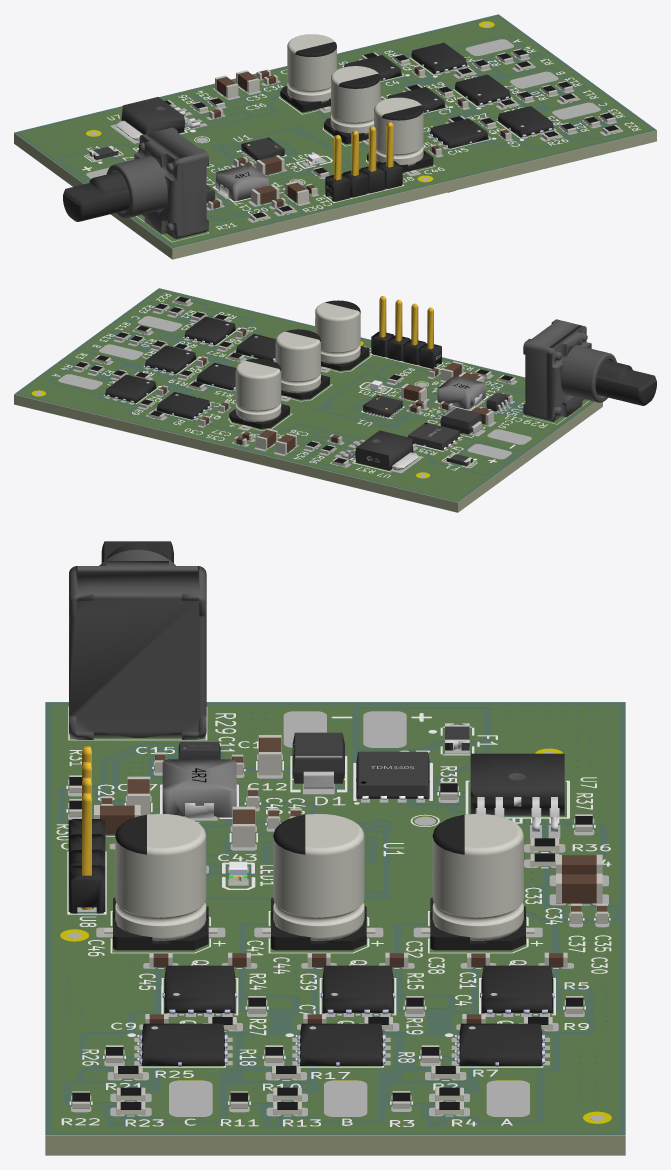
Rendered from BLDCdriver_RevC.glb.
The picture shows the model from 3 angles, top to bottom: view 1: azimuth 30°, elevation 25°; view 2: azimuth 150°, elevation 25°; view 3: azimuth 270°, elevation 25°; orthographic projection. The views are drawn at different scales.
Visible parts, largest first — view 1: =>[0:1:1:51], =>[0:1:1:46], =>[0:1:1:53], =>[0:1:1:23] (×3), =>[0:1:1:11], =>[0:1:1:19] (×6), =>[0:1:1:47], =>[0:1:1:49], =>[0:1:1:3], =>[0:1:1:7], =>[0:1:1:17] (×5), =>[0:1:1:25] (+2 smaller); view 2: =>[0:1:1:51], =>[0:1:1:46], =>[0:1:1:53], =>[0:1:1:23] (×3), =>[0:1:1:11], =>[0:1:1:19] (×6), =>[0:1:1:47], =>[0:1:1:49], =>[0:1:1:3], =>[0:1:1:7], =>[0:1:1:25], =>[0:1:1:17] (×3) (+5 smaller); view 3: =>[0:1:1:51], =>[0:1:1:46], =>[0:1:1:23] (×3), =>[0:1:1:53], =>[0:1:1:11], =>[0:1:1:19] (×6), =>[0:1:1:47], =>[0:1:1:49], =>[0:1:1:7], =>[0:1:1:17] (×5), =>[0:1:1:25], =>[0:1:1:3] (+2 smaller).
Part boxes in pixels (x1,y1,x2,y2): =>[0:1:1:51]: (14, 14, 656, 248); =>[0:1:1:46]: (20, 17, 650, 245); =>[0:1:1:53]: (14, 15, 656, 259); =>[0:1:1:23] (×3): (280, 34, 433, 173); =>[0:1:1:11]: (63, 127, 208, 239); =>[0:1:1:19] (×6): (344, 42, 553, 148); =>[0:1:1:47]: (86, 23, 623, 222); =>[0:1:1:49]: (82, 39, 641, 242); =>[0:1:1:3]: (325, 122, 402, 201); =>[0:1:1:7]: (116, 97, 200, 140); =>[0:1:1:17] (×5): (215, 70, 308, 205); =>[0:1:1:25]: (216, 164, 268, 200); =>[0:1:1:51]: (14, 288, 594, 502); =>[0:1:1:46]: (19, 291, 591, 500); =>[0:1:1:53]: (14, 289, 602, 512); =>[0:1:1:23] (×3): (229, 300, 369, 428); =>[0:1:1:11]: (523, 319, 656, 421); =>[0:1:1:19] (×6): (105, 316, 275, 419); =>[0:1:1:47]: (35, 300, 531, 476); =>[0:1:1:49]: (52, 293, 589, 478); =>[0:1:1:3]: (371, 296, 441, 368); =>[0:1:1:7]: (341, 430, 417, 470); =>[0:1:1:25]: (437, 376, 485, 409); =>[0:1:1:17] (×3): (256, 383, 426, 454); =>[0:1:1:51]: (45, 702, 625, 1135); =>[0:1:1:46]: (52, 705, 618, 1132); =>[0:1:1:23] (×3): (104, 813, 534, 950); =>[0:1:1:53]: (45, 703, 625, 1155); =>[0:1:1:11]: (69, 541, 206, 739); =>[0:1:1:19] (×6): (139, 965, 554, 1066); =>[0:1:1:47]: (67, 711, 609, 1120); =>[0:1:1:49]: (56, 706, 611, 1126); =>[0:1:1:7]: (470, 753, 564, 831); =>[0:1:1:17] (×5): (94, 735, 602, 903); =>[0:1:1:25]: (162, 759, 236, 818); =>[0:1:1:3]: (68, 746, 105, 913).
Bounding box in the file's own units: 0.0819 × 0.0158 × 0.04.
